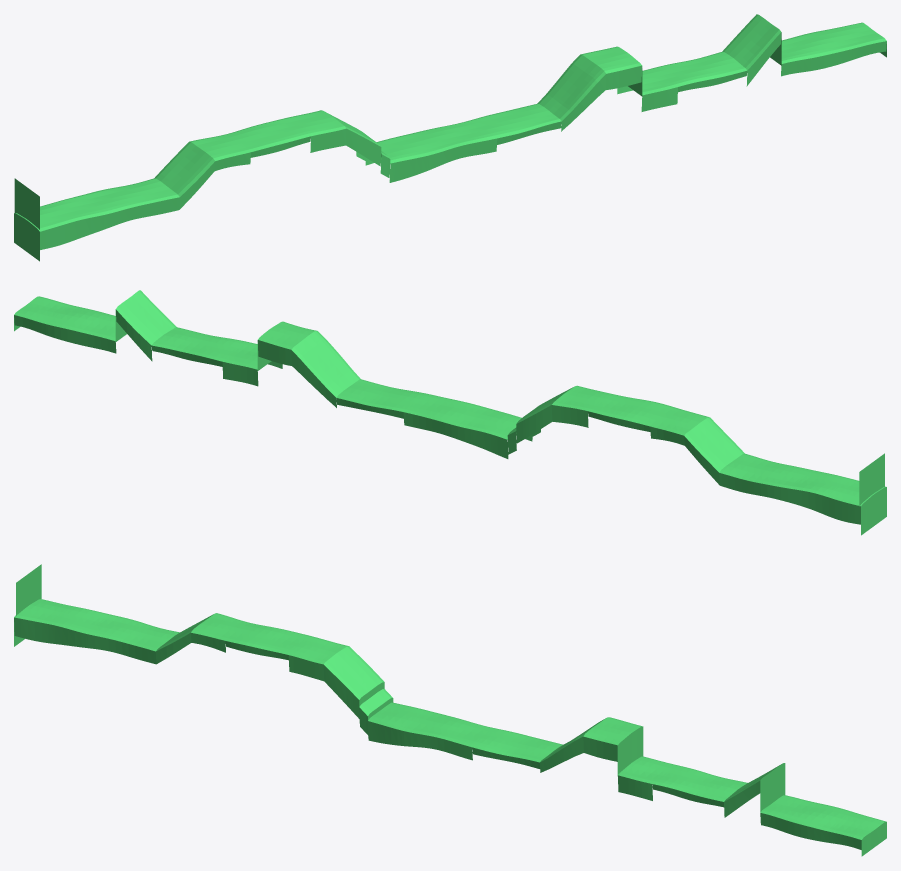
Rendered from SecretTerrainCollisionCompact.glb.
3 views of the same model, one above another, from view 1: azimuth 30°, elevation 25°; view 2: azimuth 150°, elevation 25°; view 3: azimuth 330°, elevation 25° (orthographic).
Visible parts, largest first — view 1: Sonic_Sector_0, Sonic_Sector_5, Sonic_Sector_1, Sonic_Sector_3, Sonic_Sector_4, Sonic_Sector_2; view 2: Sonic_Sector_0, Sonic_Sector_5, Sonic_Sector_1, Sonic_Sector_3, Sonic_Sector_4, Sonic_Sector_2; view 3: Sonic_Sector_2, Sonic_Sector_0, Sonic_Sector_4, Sonic_Sector_5, Sonic_Sector_1, Sonic_Sector_3.
Part boxes in pixels (box(x1,y1,x2,y2)): Sonic_Sector_0: box(14, 178, 179, 261); Sonic_Sector_5: box(721, 14, 884, 86); Sonic_Sector_1: box(154, 115, 321, 209); Sonic_Sector_3: box(437, 61, 599, 157); Sonic_Sector_4: box(574, 46, 745, 111); Sonic_Sector_2: box(298, 110, 461, 182); Sonic_Sector_0: box(719, 453, 886, 535); Sonic_Sector_5: box(16, 290, 178, 361); Sonic_Sector_1: box(577, 391, 744, 485); Sonic_Sector_3: box(298, 337, 462, 433); Sonic_Sector_4: box(154, 321, 323, 386); Sonic_Sector_2: box(438, 385, 600, 458); Sonic_Sector_2: box(299, 639, 461, 749); Sonic_Sector_0: box(14, 564, 179, 664); Sonic_Sector_4: box(576, 717, 745, 806); Sonic_Sector_5: box(721, 763, 883, 849); Sonic_Sector_1: box(156, 613, 323, 674); Sonic_Sector_3: box(437, 719, 598, 772).
Bounding box in the file's own units: 154 × 12.71 × 8.74.
